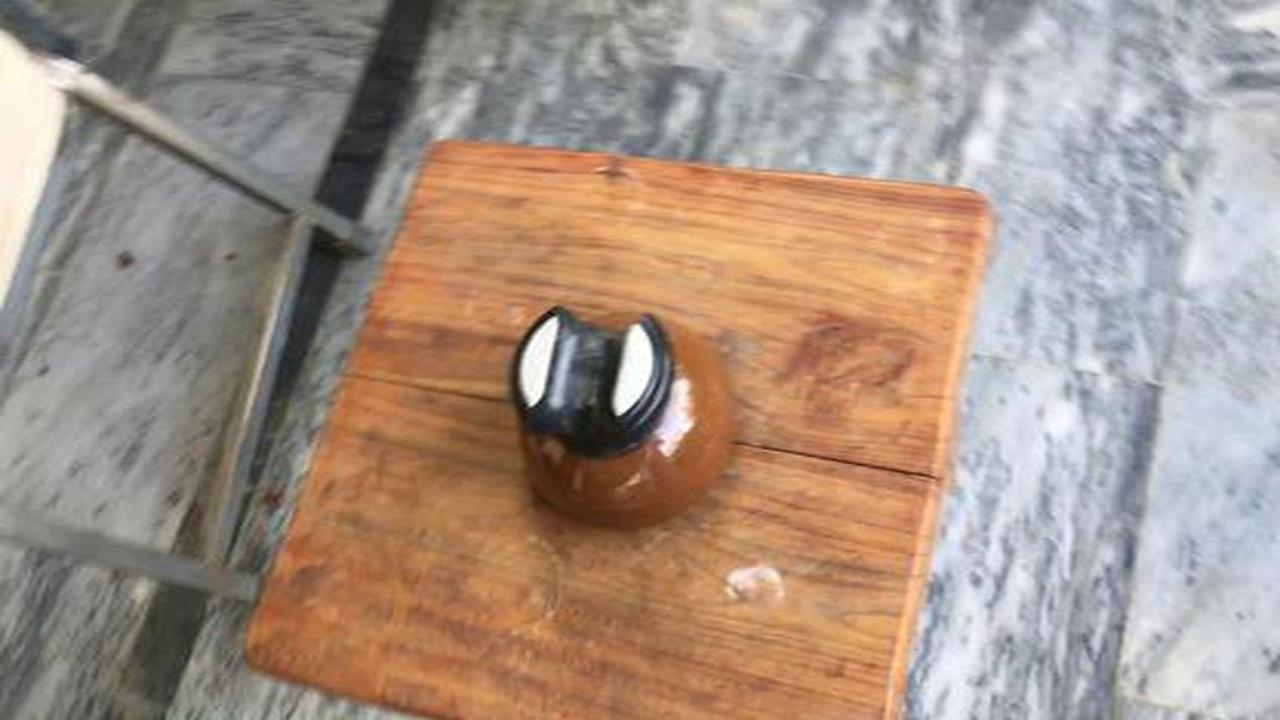insulator_pin: (487, 296, 754, 551)
